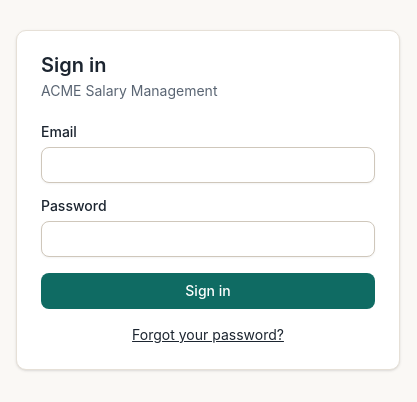
Scenario: LoginPage › explains an invalid email address
Step 1. Type "not-an-email" into the field labelled "Email" → point(208, 165), box x1=41 y1=147 x2=375 y2=183
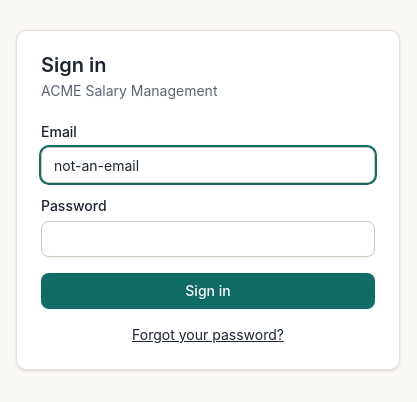
Step 2. Type "secret" into the password field labelled "Password" → point(208, 239), box x1=41 y1=221 x2=375 y2=257
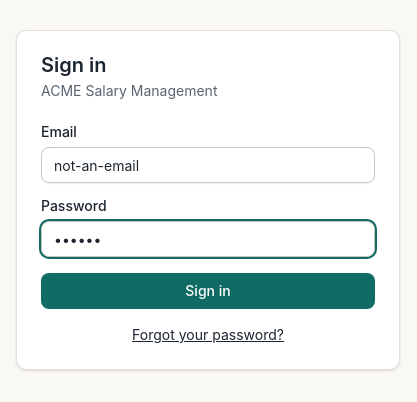
Step 3. Click the button "Sign in" → point(208, 291), box x1=41 y1=273 x2=375 y2=309
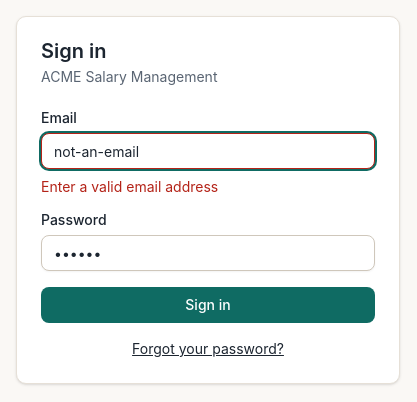
expect the text "Enter a valid email address" is shown: met, box x1=41 y1=178 x2=218 y2=195
